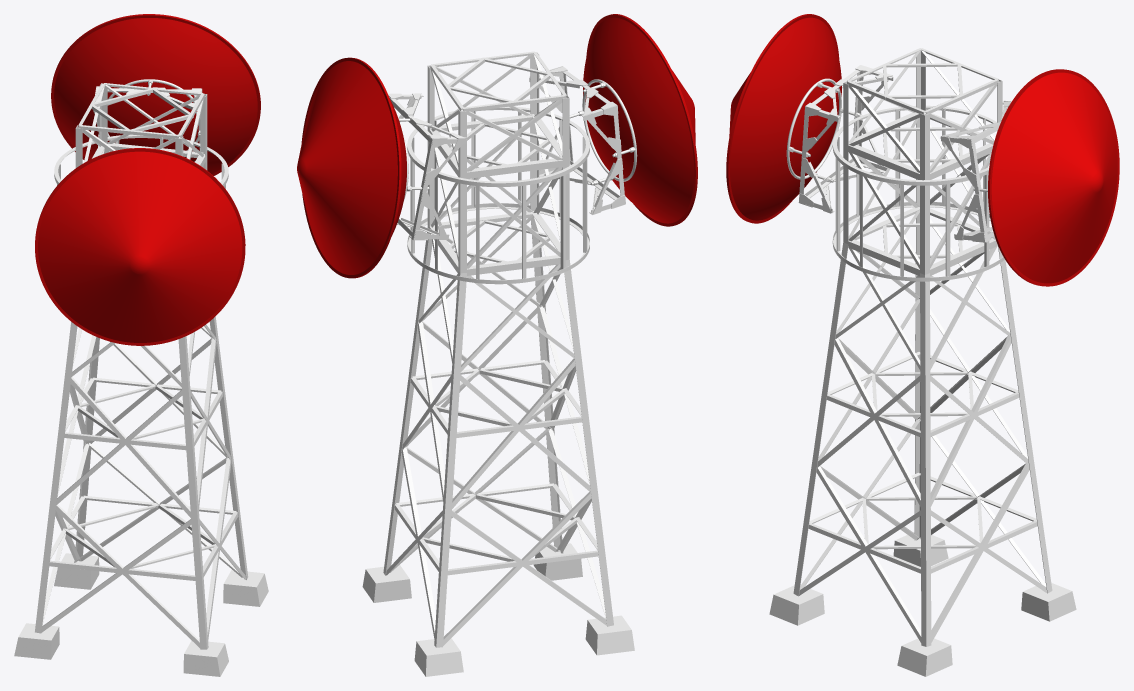
The model's file is ang福地ダム.glb.
The picture shows the model from 3 angles, left to right: view 1: azimuth 30°, elevation 25°; view 2: azimuth 150°, elevation 25°; view 3: azimuth 270°, elevation 25°; orthographic projection. The views are drawn at different scales.
Parts seen in each view (by area): view 1: group_45.005, group_17, group_77.006, group_77, group_44.003, group_77.004, group_43.001, group_77.002, group_102, group_103, group_100, group_73 (+19 smaller); view 2: group_45.002, group_17.003, group_77.002, group_77, group_77.004, group_77.006, group_97.002, group_100, group_101, group_102, group_44.001, group_75.001 (+26 smaller); view 3: group_45.002, group_17.003, group_77.004, group_77.006, group_77.002, group_77, group_44.001, group_103, group_102, group_101, group_97.002, group_73.003 (+29 smaller).
Part boxes in pixels (x1,y1,x2,y2): group_45.005: (38, 151, 242, 342); group_17: (54, 18, 257, 174); group_77.006: (175, 136, 208, 649); group_77: (35, 125, 82, 633); group_44.003: (35, 148, 245, 345); group_77.004: (200, 94, 248, 579); group_43.001: (51, 14, 260, 175); group_77.002: (74, 83, 107, 562); group_102: (223, 570, 268, 606); group_103: (183, 640, 228, 676); group_100: (14, 623, 59, 659); group_73: (56, 504, 200, 648); group_45.002: (297, 61, 397, 274); group_17.003: (583, 17, 694, 223); group_77.002: (434, 109, 466, 647); group_77: (562, 95, 613, 626); group_77.004: (383, 65, 434, 575); group_77.006: (530, 52, 563, 553); group_97.002: (407, 106, 589, 187); group_100: (585, 615, 634, 655); group_101: (414, 638, 463, 676); group_102: (362, 565, 411, 602); group_44.001: (301, 57, 400, 278); group_75.001: (443, 492, 591, 645); group_45.002: (991, 72, 1117, 283); group_17.003: (730, 17, 841, 220); group_77.004: (920, 113, 931, 646); group_77.006: (793, 81, 848, 596); group_77.002: (997, 79, 1052, 593); group_77: (914, 51, 925, 536); group_44.001: (989, 69, 1119, 286); group_103: (769, 585, 824, 625); group_102: (897, 638, 952, 676); group_101: (1021, 581, 1076, 621); group_97.002: (832, 105, 997, 185); group_73.003: (816, 466, 921, 642).
Size of the model in its own units: 5.11 by 8.93 by 5.58.
